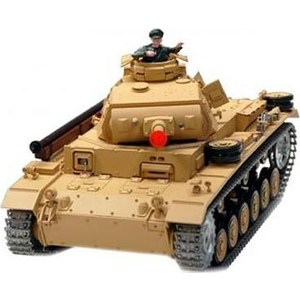Battle Tank: (2, 44, 300, 269)
